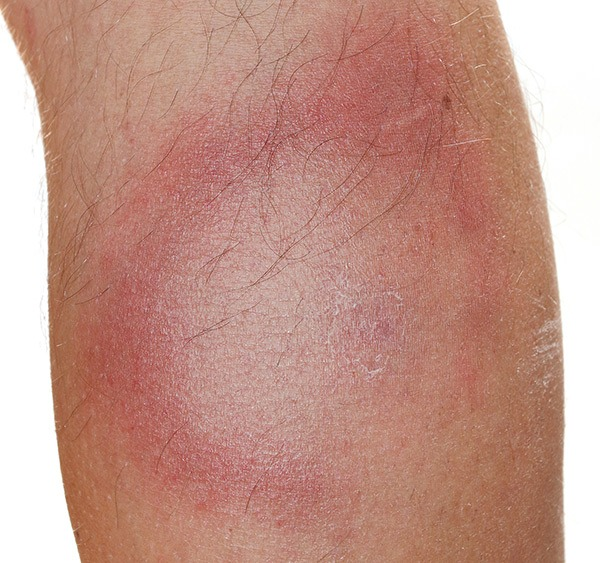Ringworm: (91, 31, 511, 526)
